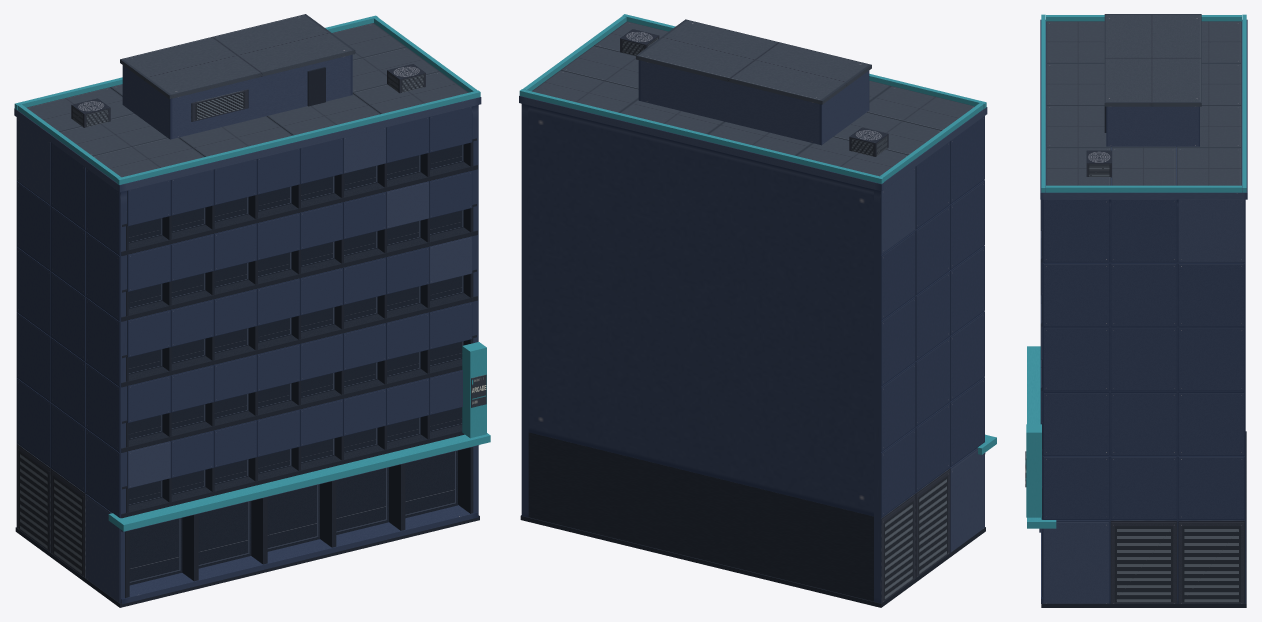
The model's file is arcade.glb.
3 renders of one model, left to right at view 1: azimuth 30°, elevation 25°; view 2: azimuth 150°, elevation 25°; view 3: azimuth 270°, elevation 25°, orthographic. The views are drawn at different scales.
Parts seen in each view (by area): view 1: Architecture, Store_01, Store_02, Store_03, Store_04, Store_05, Window_03_01, Window_03_03, Window_02_01, Window_02_02, Window_03_02, Window_04_02 (+9 smaller); view 2: Architecture; view 3: Architecture.
Boxes of the visible parts, box(x1,y1,x2,y2) form: Architecture: box(14, 14, 490, 607); Store_01: box(129, 518, 182, 585); Store_02: box(198, 501, 251, 568); Store_03: box(267, 484, 319, 551); Store_04: box(336, 467, 388, 534); Store_05: box(405, 450, 457, 518); Window_03_01: box(128, 349, 162, 374); Window_03_03: box(214, 328, 248, 353); Window_02_01: box(128, 414, 162, 440); Window_02_02: box(171, 404, 205, 429); Window_03_02: box(171, 338, 205, 363); Window_04_02: box(171, 273, 205, 298); Architecture: box(519, 14, 996, 607); Architecture: box(1025, 14, 1247, 607).
Bounding box in the file's own units: 16.4 × 20.03 × 8.75.
1 material, 1 textured.
